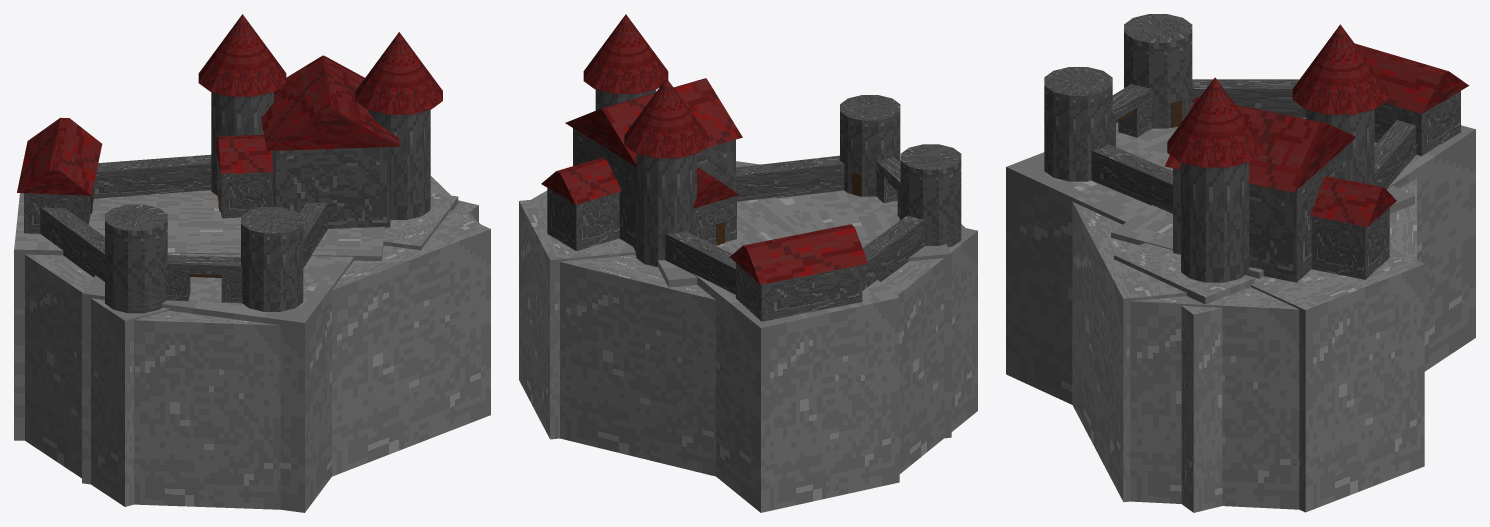
File: castle.obj
The picture shows the model from 3 angles, left to right: view 1: azimuth 30°, elevation 25°; view 2: azimuth 150°, elevation 25°; view 3: azimuth 270°, elevation 25°; orthographic projection. The views are drawn at different scales.
Visible parts, largest first — view 1: cube, cylinder, mesh, cone; view 2: cube, cylinder, mesh, cone; view 3: cube, cylinder, mesh, cone.
Boxes of the visible parts, x1,y1,x2,y2 form: cube: (14,147,490,512); cylinder: (105,92,430,313); mesh: (17,55,399,195); cone: (198,14,442,114); cube: (519,128,977,512); cylinder: (595,89,961,267); mesh: (541,78,868,284); cone: (583,14,708,158); cube: (1006,79,1475,512); cylinder: (1044,14,1374,282); mesh: (1165,43,1469,226); cone: (1167,24,1388,167).
Size of the model in its own units: 0.6985 by 0.6031 by 0.6443.
Materials: 4 (4 with a texture image).
